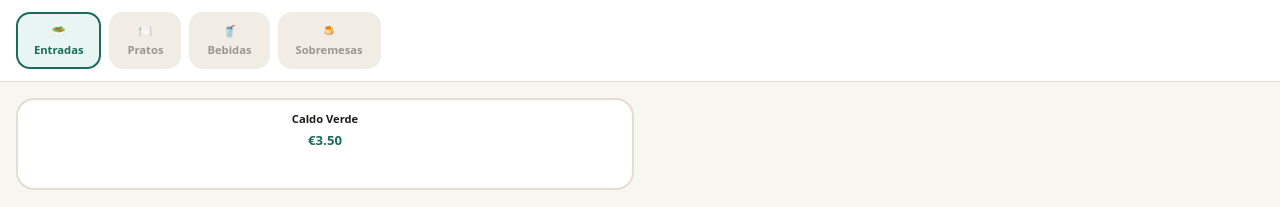
Test case: ProductGrid › filters to Bebidas when that tab is clicked
This screenshot has width=1280, height=207.
Click the text "Bebidas" at point(230, 50), box 208,41 -> 252,59
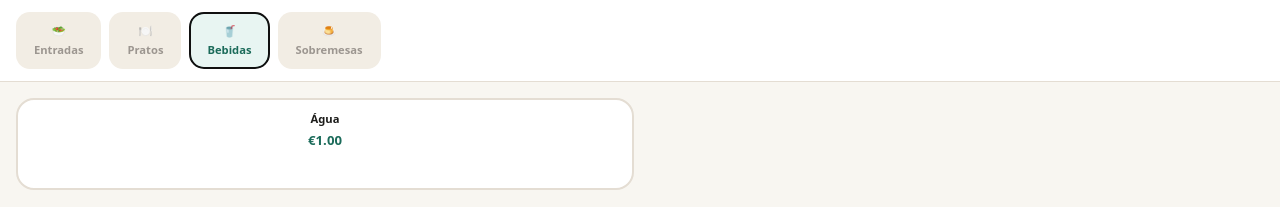
Check: the text "Água" is shown, box 310,112 -> 339,126
